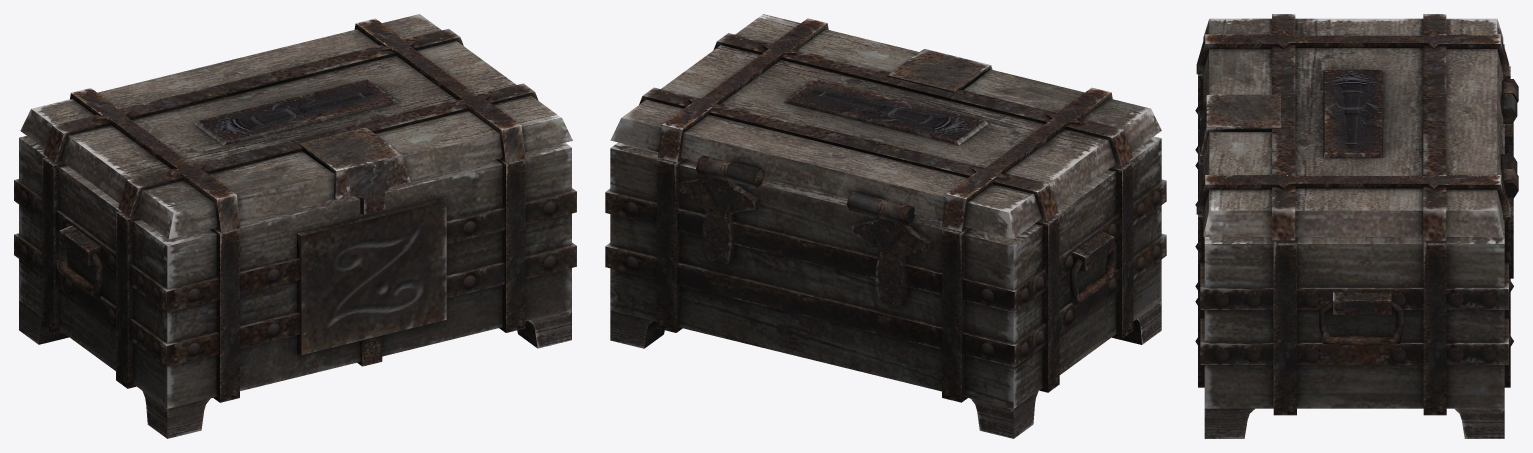
Rendered from treasure_chest.dae.
3 renders of one model, left to right at view 1: azimuth 30°, elevation 25°; view 2: azimuth 150°, elevation 25°; view 3: azimuth 270°, elevation 25°, orthographic.
Parts seen in each view (by area): view 1: chest, lid; view 2: chest, lid; view 3: lid, chest.
Boxes of the visible parts, x1=… form: chest: x1=14, y1=136, x2=576, y2=438; lid: x1=20, y1=14, x2=572, y2=239; chest: x1=605, y1=136, x2=1166, y2=438; lid: x1=610, y1=14, x2=1161, y2=238; lid: x1=1196, y1=14, x2=1517, y2=240; chest: x1=1195, y1=44, x2=1518, y2=438.
Bounding box in the file's own units: 1.44 × 0.7144 × 0.9119.
